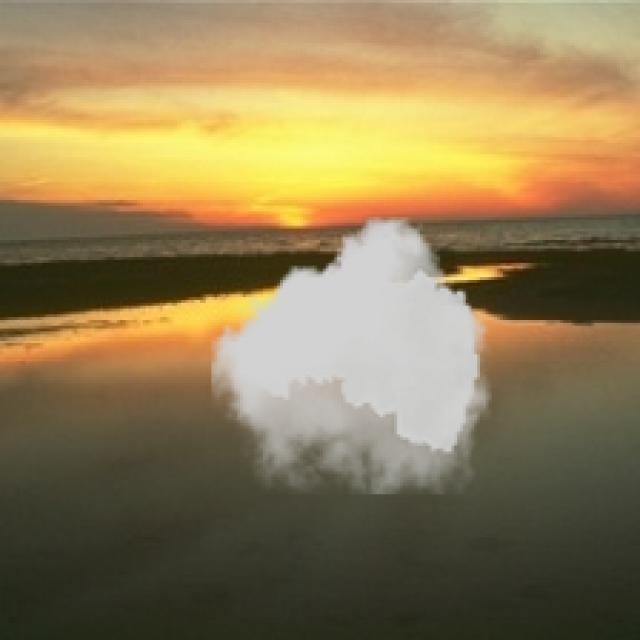Smoke: (212, 217, 492, 494)
